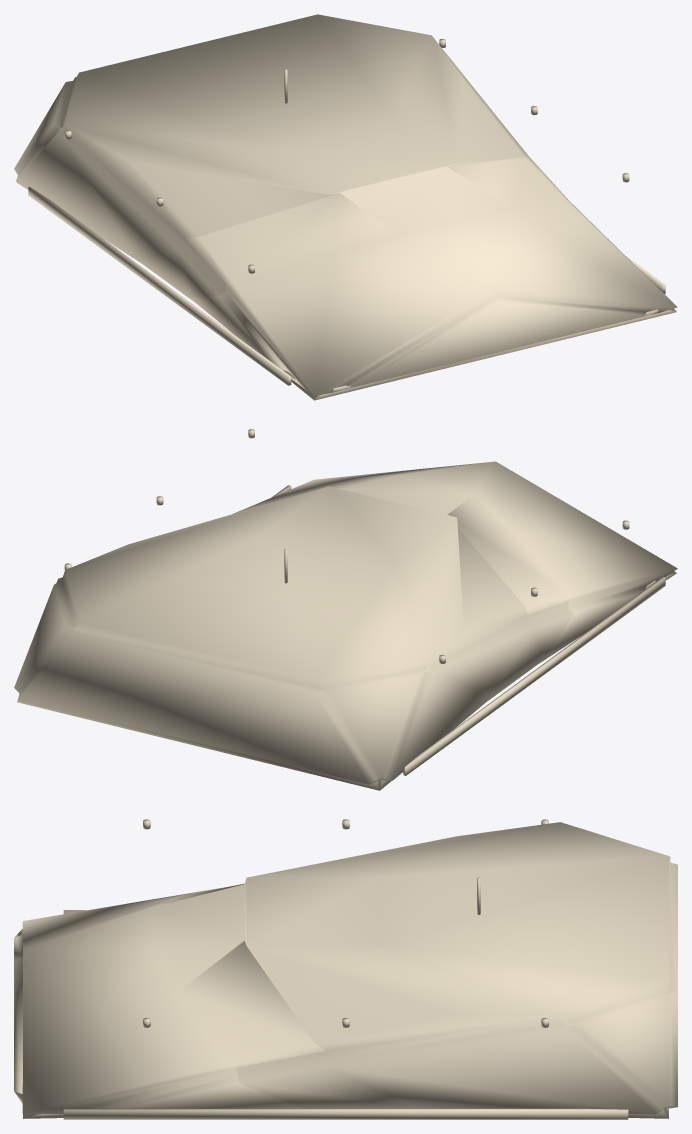
The model's file is wedge_heavy_tidemark.glb.
The picture shows the model from 3 angles, top to bottom: view 1: azimuth 30°, elevation 25°; view 2: azimuth 150°, elevation 25°; view 3: azimuth 270°, elevation 25°; orthographic projection. The views are drawn at different scales.
Parts seen in each view (by area): view 1: wedge_heavy_tidemark; view 2: wedge_heavy_tidemark; view 3: wedge_heavy_tidemark.
Boxes of the visible parts, <box> form: wedge_heavy_tidemark: <box>14,14,677,400</box>; wedge_heavy_tidemark: <box>14,429,677,790</box>; wedge_heavy_tidemark: <box>14,819,677,1119</box>.
Size of the model in its own units: 5.03 by 1.68 by 7.
